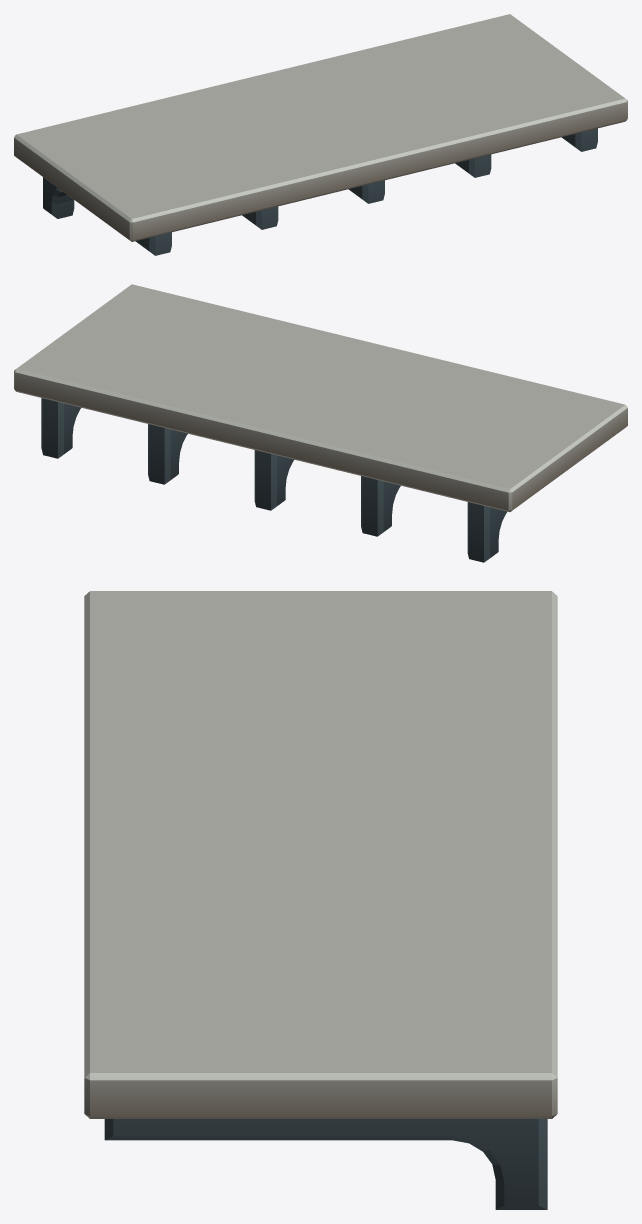
The model's file is sp_build_prop_pf_01.fbx.
3 views of the same model, one above another, from view 1: azimuth 30°, elevation 25°; view 2: azimuth 150°, elevation 25°; view 3: azimuth 270°, elevation 25° (orthographic). The views are drawn at different scales.
Visible parts, largest first — view 1: build_prop_pf_01; view 2: build_prop_pf_01; view 3: build_prop_pf_01.
Boxes of the visible parts, x1,y1,x2,y2 form: build_prop_pf_01: [14, 14, 627, 255]; build_prop_pf_01: [14, 284, 627, 562]; build_prop_pf_01: [84, 591, 557, 1209].
Size of the model in its own units: 243 by 37.77 by 100.
